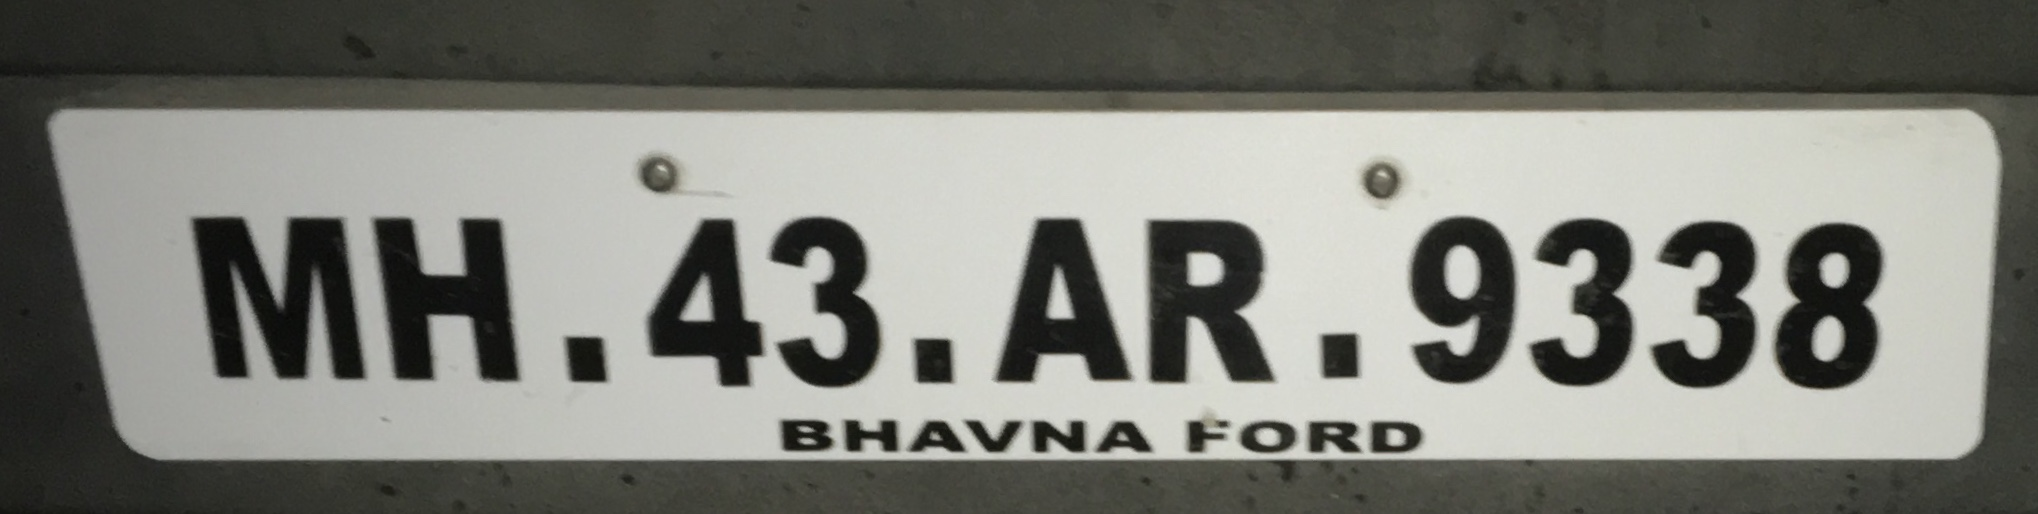numberplate: (33, 102, 2002, 457)
